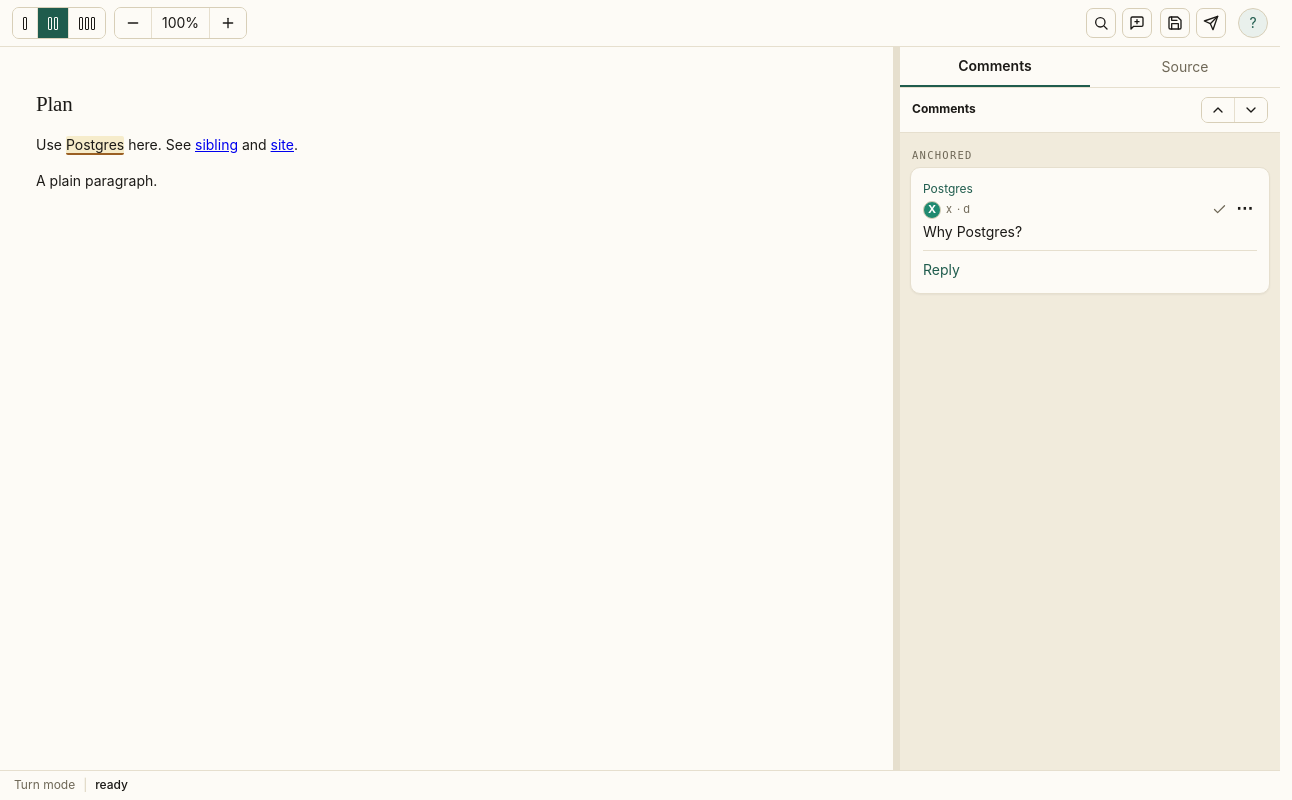
Test: comment reply composer › submits a reply via the Comment button
Click the button "Reply": (941, 270) [923, 259, 960, 281]
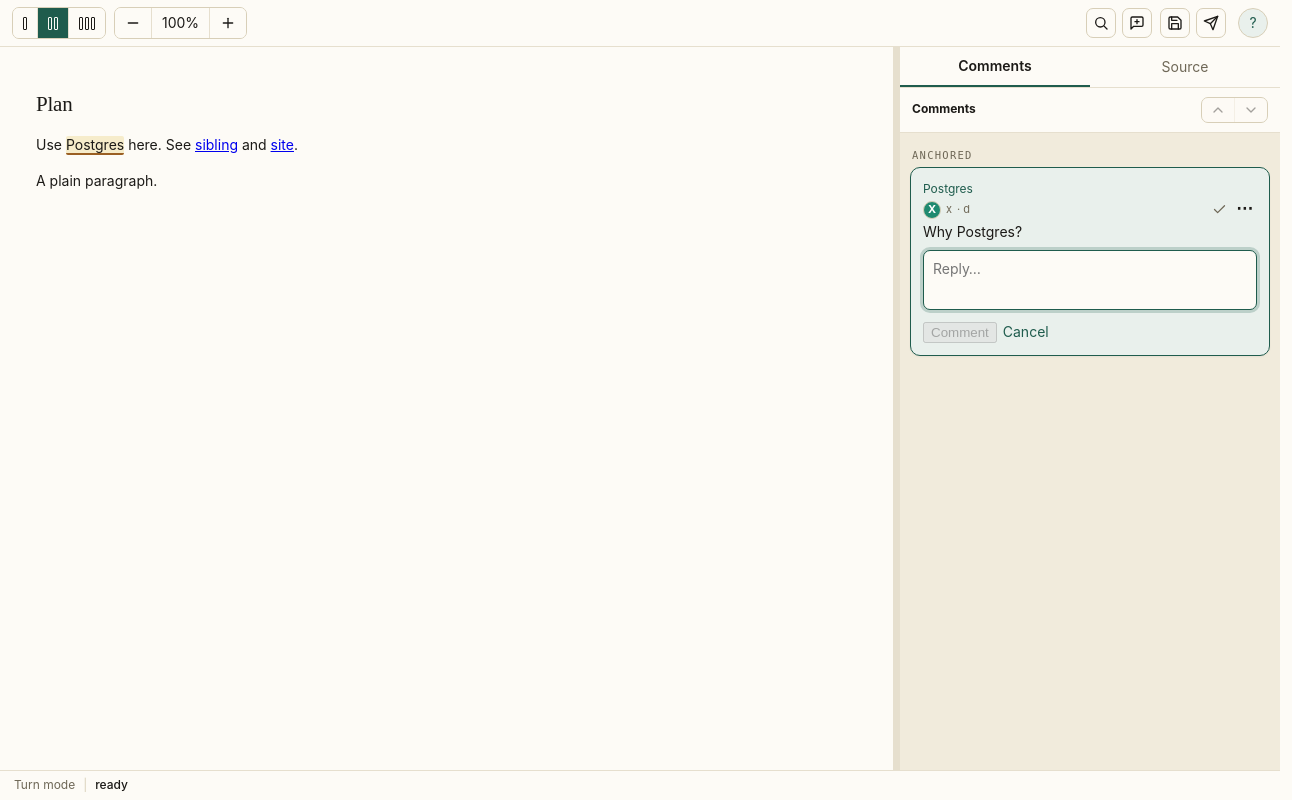
In the dropdown with placeholder "Reply…": (1090, 280) [923, 250, 1257, 310], type "Because scale."
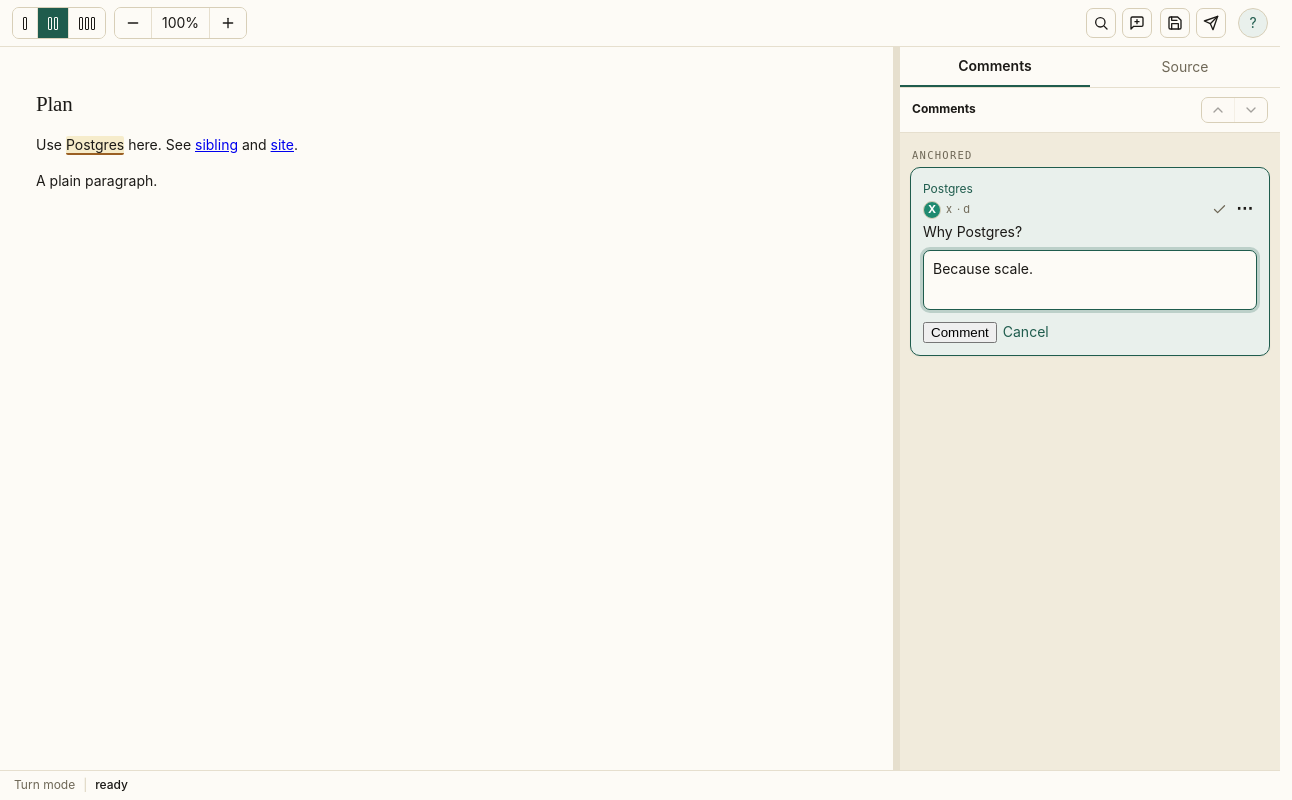
Press Enter in the dropdown with placeholder "Reply…", box [923, 250, 1257, 310]
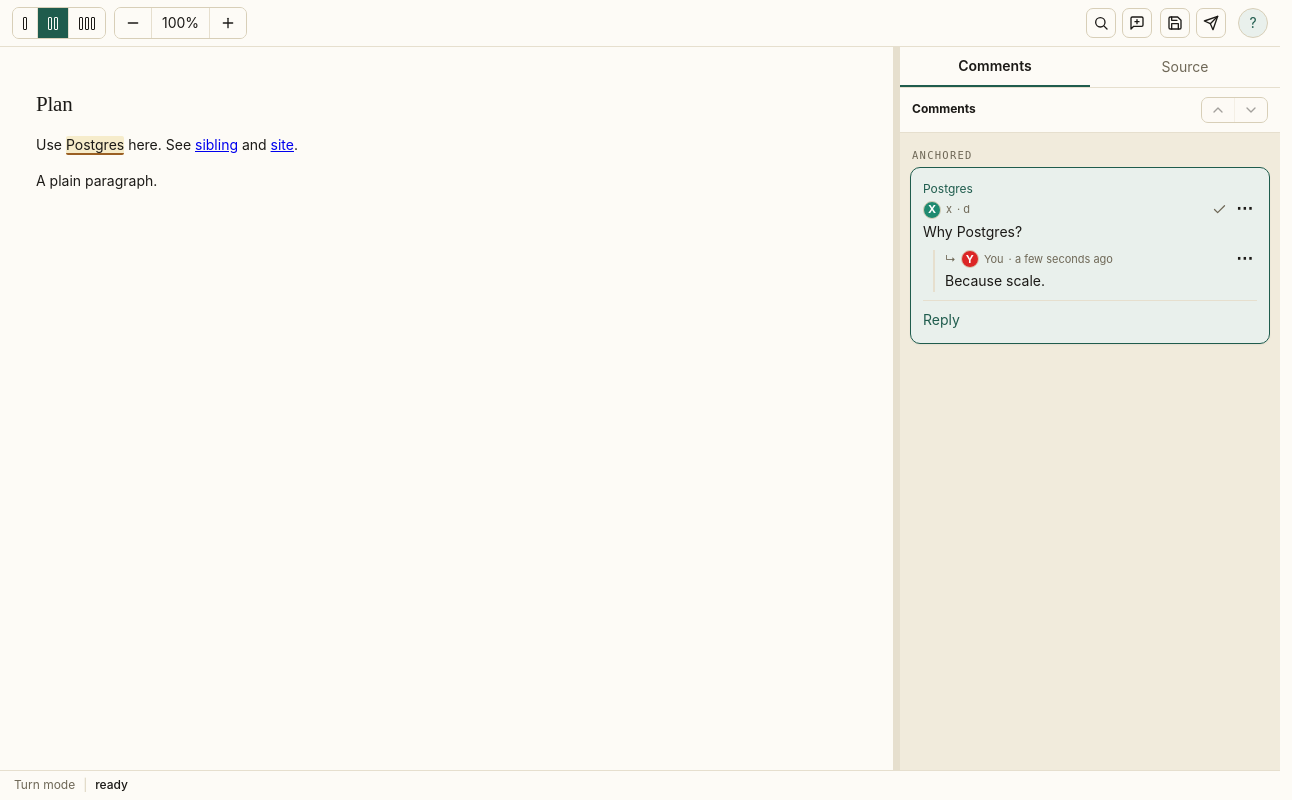
Result: the text "Because scale." is shown at [945, 272, 1045, 289]
